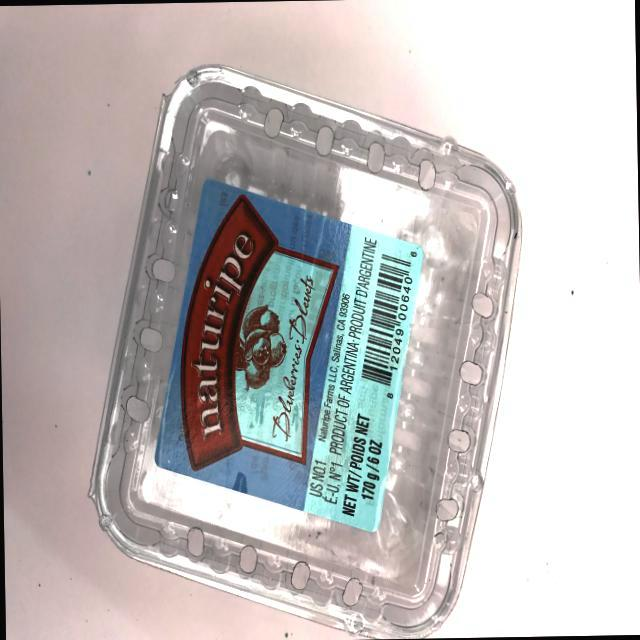plastic: (77, 45, 532, 640)
